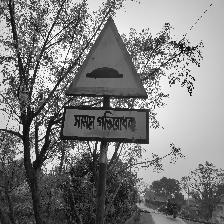Speed-breaker: (62, 15, 150, 145)
